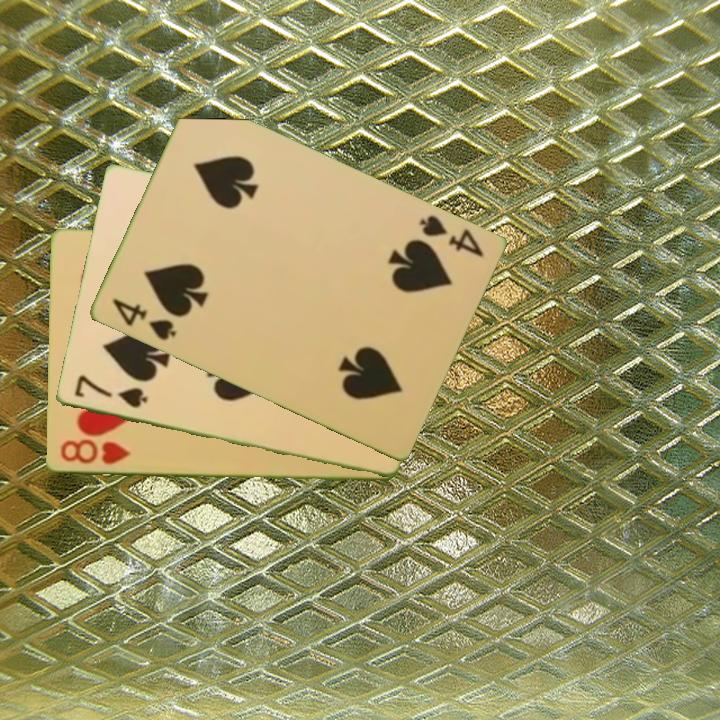4s: (107, 295, 179, 344), (415, 211, 486, 260)
7s: (70, 372, 150, 412)
8h: (56, 438, 132, 468)
